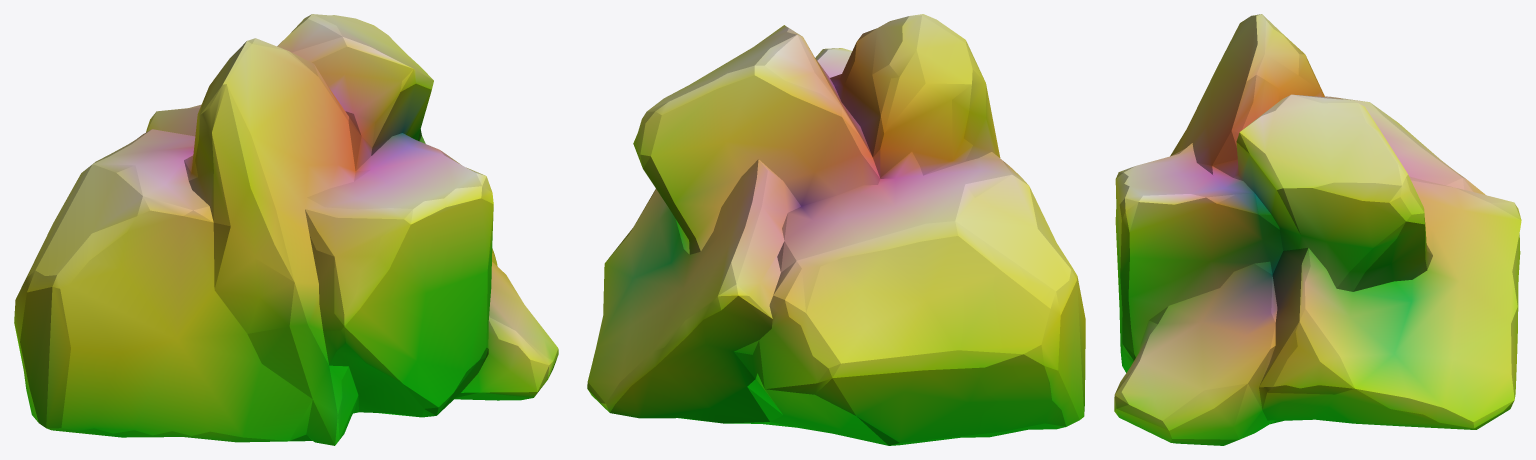
File: rock_group_04_LOD1.fbx
3 renders of one model, left to right at view 1: azimuth 30°, elevation 25°; view 2: azimuth 150°, elevation 25°; view 3: azimuth 270°, elevation 25°, orthographic. The views are drawn at different scales.
Parts seen in each view (by area): view 1: LOD1; view 2: LOD1; view 3: LOD1.
Part boxes in pixels (left/top/right/bottom): LOD1: left=14, top=14, right=558, bottom=445; LOD1: left=587, top=14, right=1085, bottom=445; LOD1: left=1114, top=14, right=1521, bottom=445.
Bounding box in the file's own units: 755 × 565 × 646.
